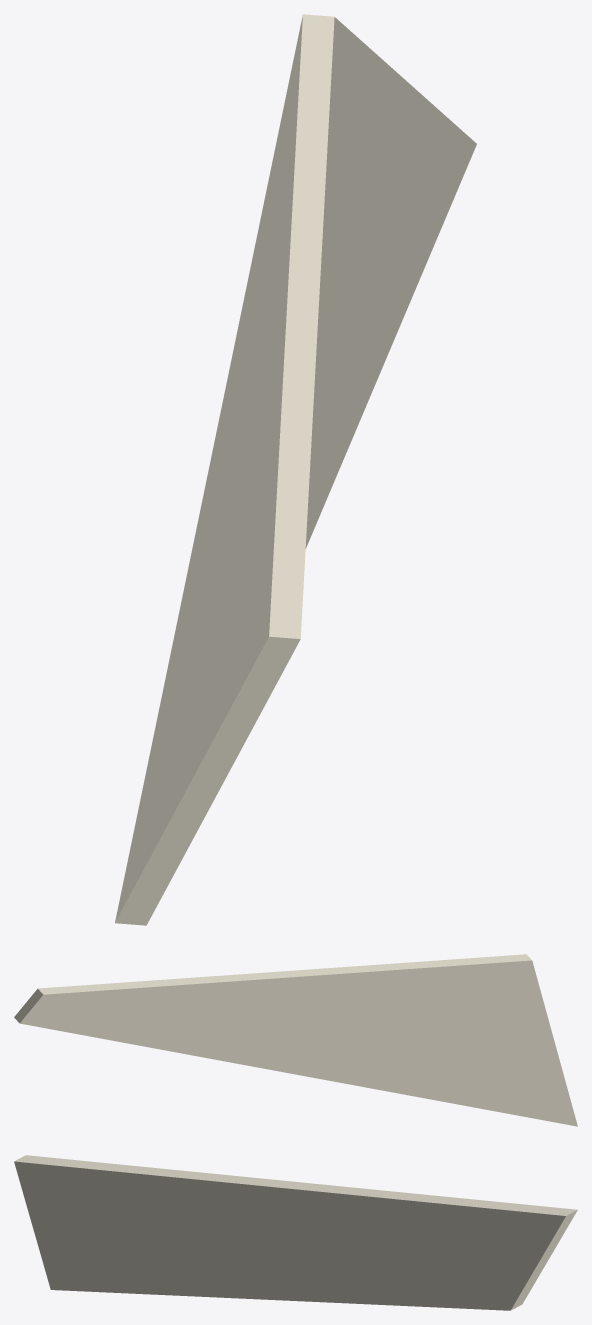
3 views of the same model, one above another, from view 1: azimuth 30°, elevation 25°; view 2: azimuth 150°, elevation 25°; view 3: azimuth 270°, elevation 25° (orthographic). The views are drawn at different scales.
Parts seen in each view (by area): view 1: ZA_d20098e09a849e85; view 2: ZA_d20098e09a849e85; view 3: ZA_d20098e09a849e85.
Boxes of the visible parts, x1,y1,x2,y2 form: ZA_d20098e09a849e85: (115, 14, 476, 925); ZA_d20098e09a849e85: (14, 954, 577, 1126); ZA_d20098e09a849e85: (14, 1155, 577, 1310).
Size of the model in its own units: 0.0134 by 0.00745 by 0.015.
